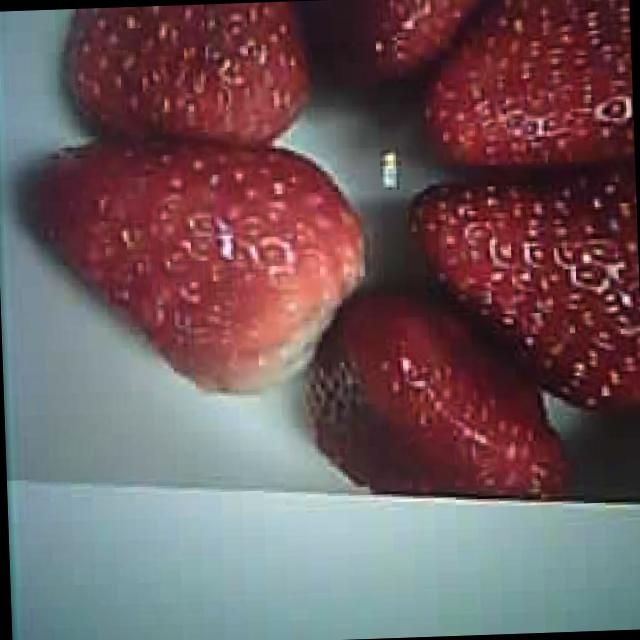strawberry: (32, 134, 367, 402), (408, 172, 640, 412), (417, 0, 634, 170)
